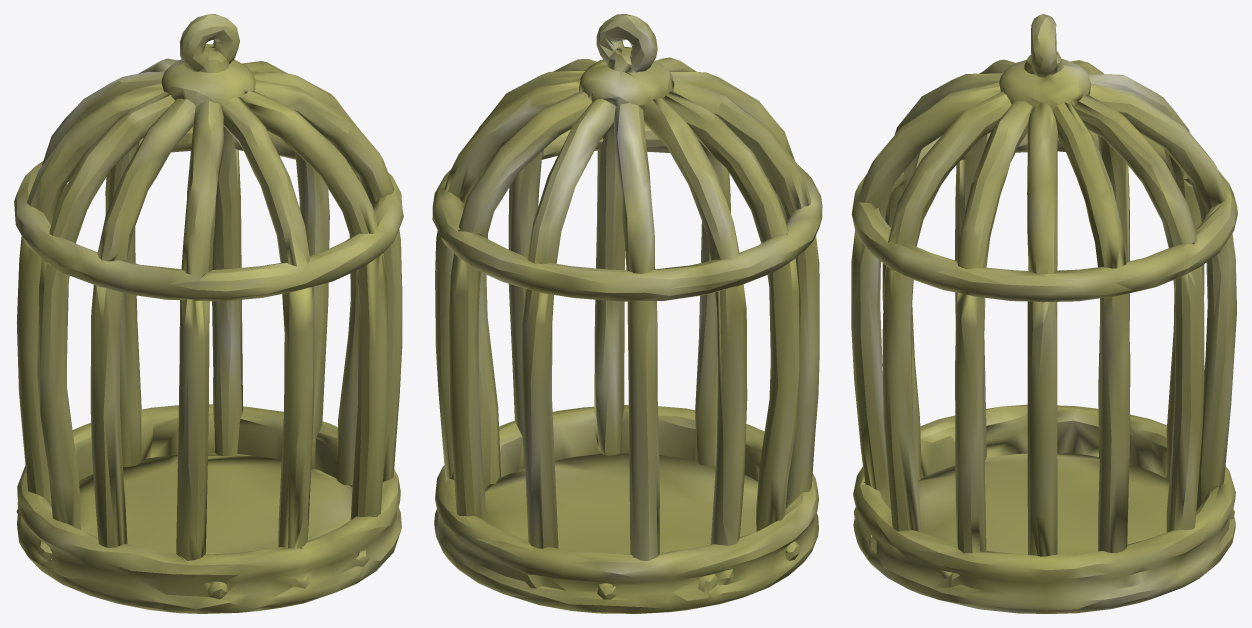
Rendered from BirdCage01.fbx.
The picture shows the model from 3 angles, left to right: view 1: azimuth 30°, elevation 25°; view 2: azimuth 150°, elevation 25°; view 3: azimuth 270°, elevation 25°; orthographic projection.
Visible parts, largest first — view 1: BirdCage; view 2: BirdCage; view 3: BirdCage.
Boxes of the visible parts, x1,y1,x2,y2 form: BirdCage: [14, 14, 403, 613]; BirdCage: [432, 14, 822, 613]; BirdCage: [851, 14, 1237, 613].
Bounding box in the file's own units: 47.97 × 70.99 × 47.53.
